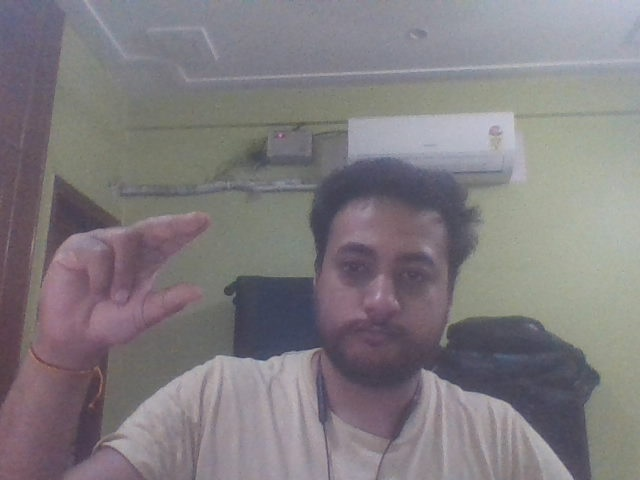No: (25, 201, 230, 382)
